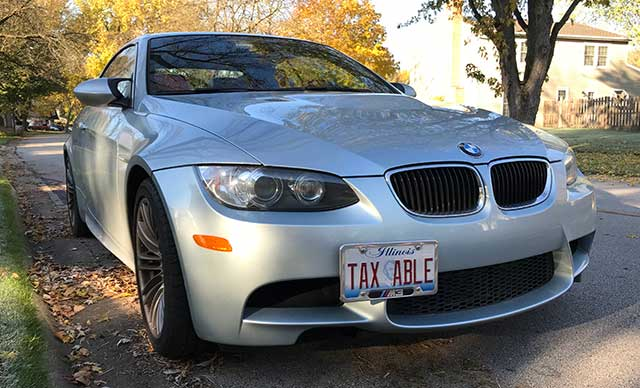license plate: (335, 242, 442, 304)
